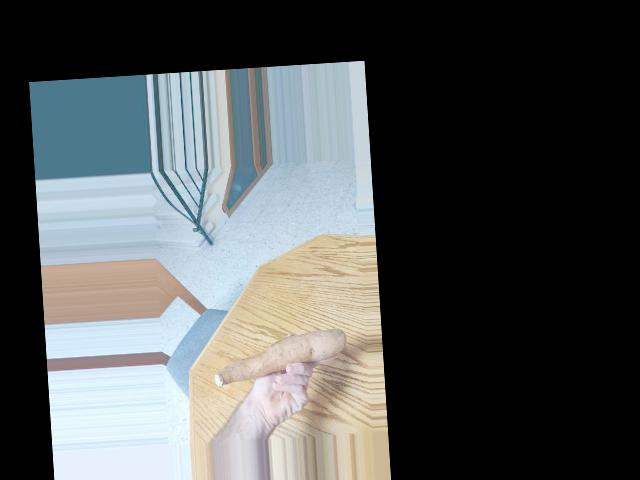sweet_potato: (210, 324, 345, 392)
